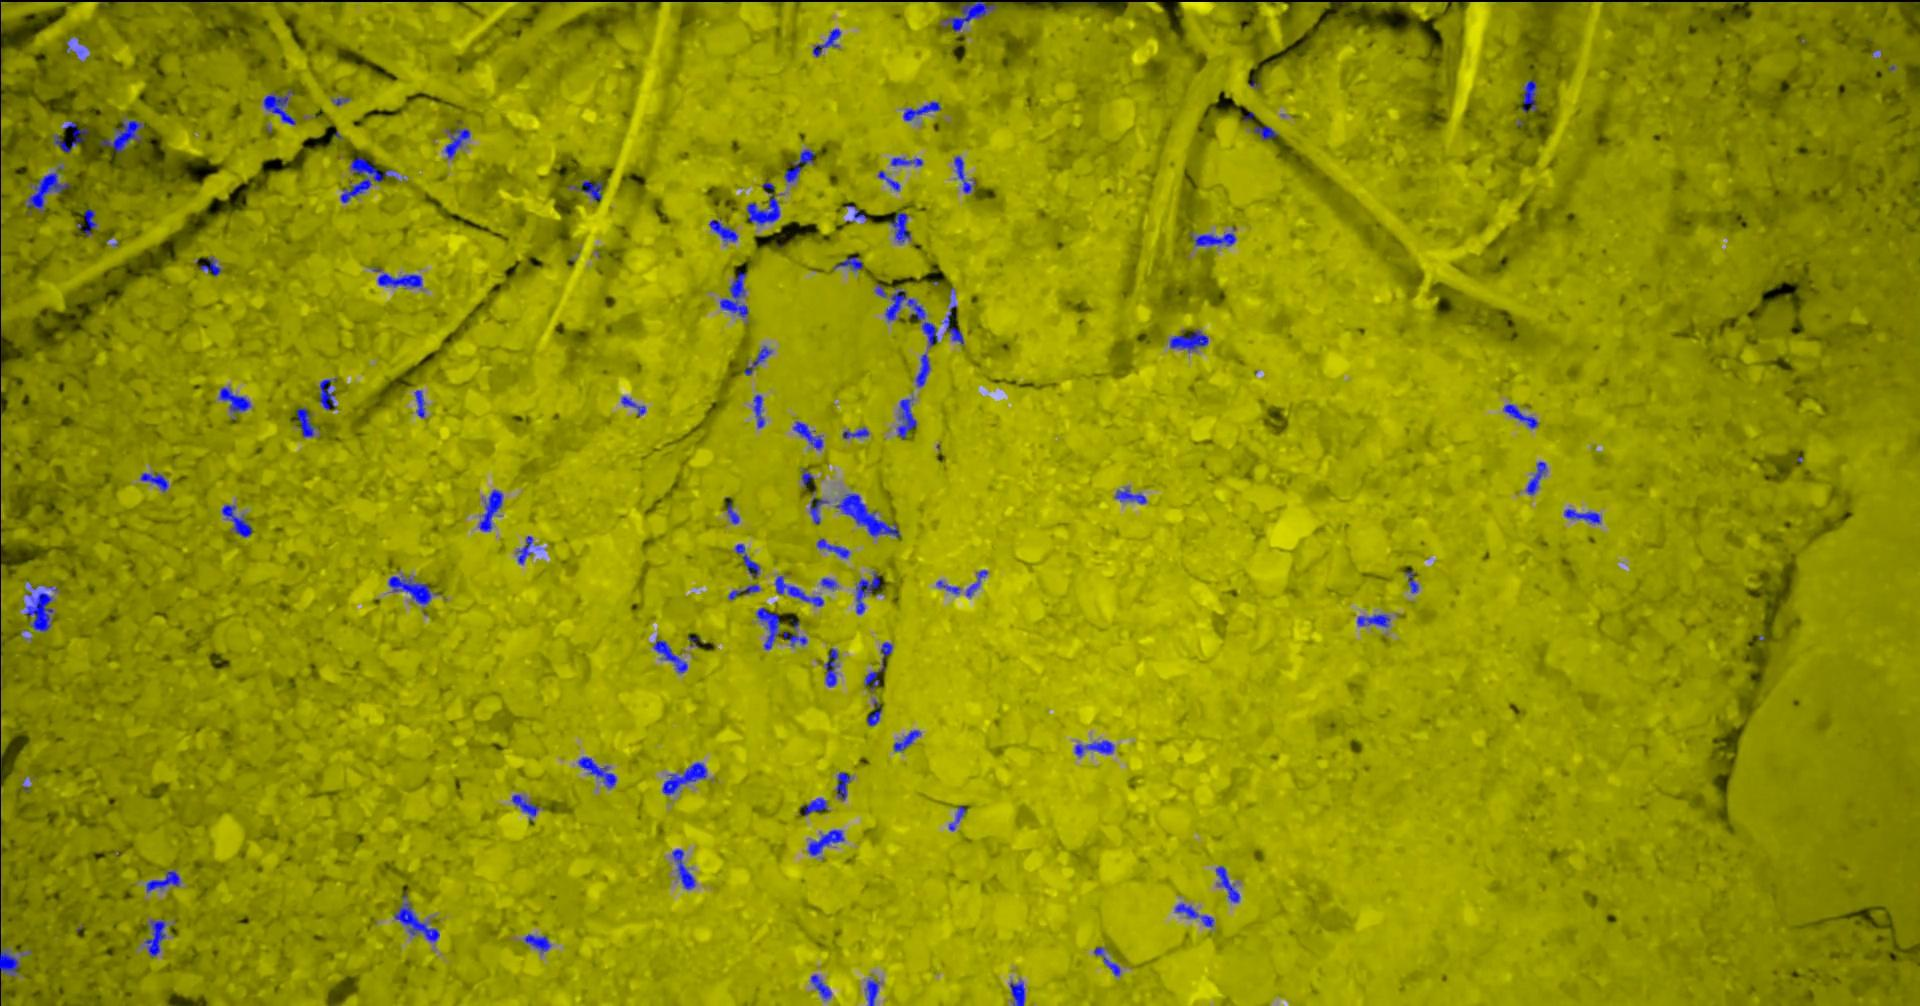ant: (876, 283, 938, 345), (837, 493, 902, 537), (342, 156, 396, 202), (758, 607, 808, 649), (28, 166, 71, 213), (395, 903, 441, 941), (945, 0, 998, 30), (776, 575, 825, 606), (663, 761, 709, 794), (748, 180, 781, 225), (102, 119, 145, 152), (721, 271, 750, 318), (866, 641, 894, 690), (579, 756, 618, 788), (390, 575, 432, 605), (25, 592, 55, 631), (55, 119, 89, 152), (655, 639, 690, 672), (264, 91, 297, 124), (857, 572, 883, 614), (480, 489, 504, 531), (785, 149, 815, 182), (375, 267, 424, 287), (223, 504, 254, 537), (673, 848, 697, 889), (809, 829, 846, 855), (1505, 403, 1540, 428), (1176, 903, 1215, 926), (1217, 866, 1241, 902), (794, 420, 824, 448), (737, 542, 761, 577), (1171, 329, 1209, 351), (745, 345, 773, 375), (146, 920, 168, 956), (1192, 227, 1237, 245), (814, 28, 842, 56), (446, 128, 472, 158), (1095, 946, 1121, 976), (945, 305, 965, 343), (899, 398, 918, 438), (220, 387, 251, 412), (147, 870, 182, 892), (513, 794, 540, 821), (710, 218, 739, 243), (570, 179, 604, 199), (1528, 461, 1548, 494), (890, 212, 912, 243), (905, 102, 942, 119), (955, 155, 973, 192), (818, 539, 851, 558), (320, 377, 339, 409), (825, 647, 841, 686), (1076, 741, 1115, 756), (1564, 508, 1603, 523), (968, 569, 989, 596), (895, 729, 922, 751), (77, 208, 98, 236), (298, 406, 317, 436), (141, 473, 170, 492), (1523, 79, 1539, 112), (1, 949, 22, 976), (1116, 486, 1148, 503), (811, 974, 833, 998), (811, 497, 830, 523), (803, 796, 829, 815), (524, 934, 552, 951), (623, 396, 648, 417), (917, 353, 931, 387), (879, 170, 902, 191), (730, 584, 761, 600), (518, 535, 535, 563), (1357, 614, 1390, 627), (201, 257, 223, 276), (950, 805, 968, 829), (836, 255, 863, 271), (838, 771, 852, 799), (1011, 981, 1026, 1005), (869, 700, 883, 725), (1255, 124, 1279, 138), (937, 580, 961, 594), (756, 394, 766, 427), (867, 979, 880, 1005), (728, 500, 742, 523), (844, 427, 870, 438), (1407, 570, 1420, 592), (891, 158, 924, 165), (803, 467, 815, 486), (417, 390, 425, 417), (822, 577, 838, 589)
